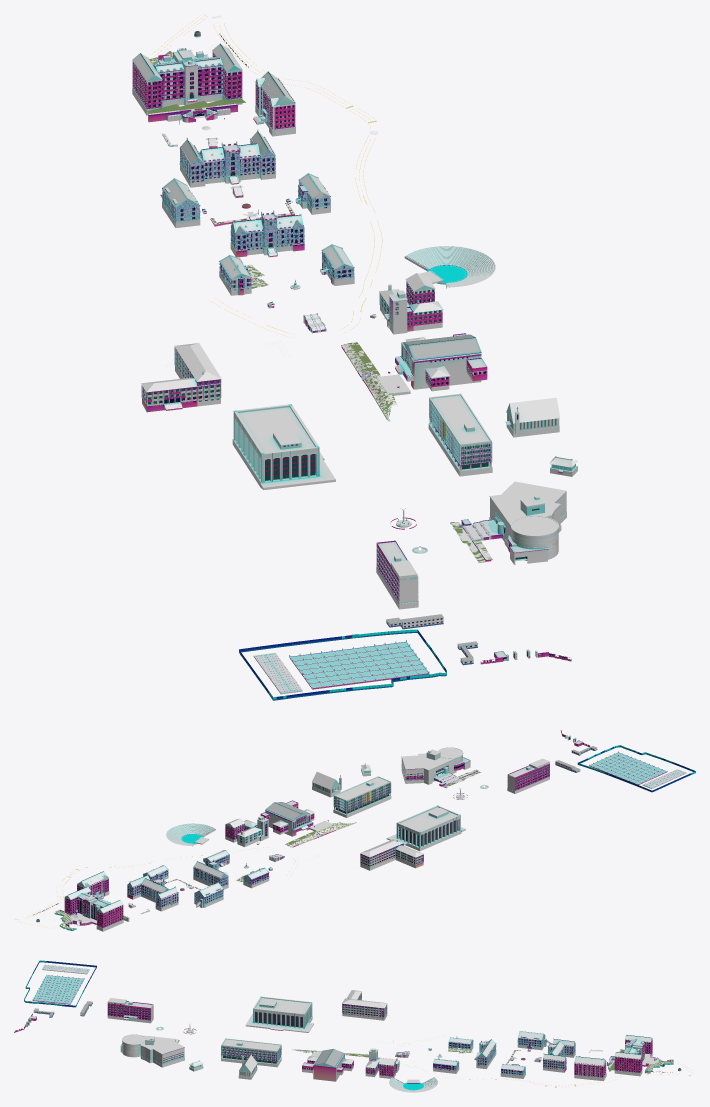
File: campus_landmarks.glb
3 renders of one model, top to bottom at view 1: azimuth 30°, elevation 25°; view 2: azimuth 150°, elevation 25°; view 3: azimuth 270°, elevation 25°, orthographic. The views are drawn at different scales.
Parts seen in each view (by area): view 1: lm_library, lm_gongwon_deck, lm_auditorium, lm_centennial, lm_union, walk_stairs, lm_kwangbok, lm_daewoo, lm_amphitheater, lm_daewoo_pavilions, lm_underwood, lm_daewoo_annex (+9 smaller); view 2: lm_library, lm_union, lm_gongwon_deck, lm_auditorium, lm_kwangbok, lm_centennial, walk_stairs, lm_daewoo_pavilions, lm_amphitheater, lm_yeonhui_pavilions, lm_underwood, lm_engineering_fac (+12 smaller); view 3: lm_library, lm_union, lm_centennial, lm_auditorium, lm_gongwon_deck, lm_kwangbok, lm_daewoo_pavilions, lm_daewoo_annex, lm_engineering_fac, walk_stairs, lm_yeonhui_pavilions, lm_amphitheater (+13 smaller).
Boxes of the visible parts, left/top/right/bottom form: lm_library: left=232, top=404, right=335, bottom=490; lm_gongwon_deck: left=289, top=640, right=429, bottom=689; lm_auditorium: left=395, top=333, right=487, bottom=391; lm_centennial: left=489, top=481, right=566, bottom=560; lm_union: left=428, top=393, right=492, bottom=476; walk_stairs: left=148, top=52, right=562, bottom=562; lm_kwangbok: left=141, top=343, right=221, bottom=412; lm_daewoo: left=152, top=48, right=223, bottom=107; lm_amphitheater: left=404, top=246, right=495, bottom=288; lm_daewoo_pavilions: left=132, top=43, right=242, bottom=115; lm_underwood: left=230, top=210, right=304, bottom=257; lm_daewoo_annex: left=253, top=71, right=295, bottom=136; lm_library: left=386, top=805, right=465, bottom=851; lm_union: left=333, top=776, right=391, bottom=817; lm_gongwon_deck: left=589, top=751, right=667, bottom=784; lm_auditorium: left=260, top=800, right=314, bottom=836; lm_kwangbok: left=360, top=839, right=423, bottom=870; lm_centennial: left=401, top=747, right=464, bottom=784; walk_stairs: left=55, top=770, right=480, bottom=929; lm_daewoo_pavilions: left=64, top=886, right=123, bottom=931; lm_amphitheater: left=166, top=823, right=215, bottom=846; lm_yeonhui_pavilions: left=127, top=874, right=178, bottom=911; lm_underwood: left=193, top=859, right=228, bottom=889; lm_engineering_fac: left=508, top=764, right=549, bottom=790; lm_library: left=245, top=996, right=313, bottom=1032; lm_union: left=221, top=1038, right=281, bottom=1067; lm_centennial: left=122, top=1034, right=184, bottom=1067; lm_auditorium: left=302, top=1049, right=353, bottom=1081; lm_gongwon_deck: left=32, top=974, right=84, bottom=1004; lm_kwangbok: left=342, top=990, right=387, bottom=1020; lm_daewoo_pavilions: left=614, top=1035, right=652, bottom=1076; lm_daewoo_annex: left=574, top=1056, right=606, bottom=1081; lm_engineering_fac: left=107, top=1001, right=152, bottom=1020; walk_stairs: left=124, top=1018, right=673, bottom=1070; lm_yeonhui_pavilions: left=543, top=1038, right=575, bottom=1072; lm_amphitheater: left=389, top=1077, right=437, bottom=1092.
Size of the model in its own units: 516 by 75.37 by 982.
